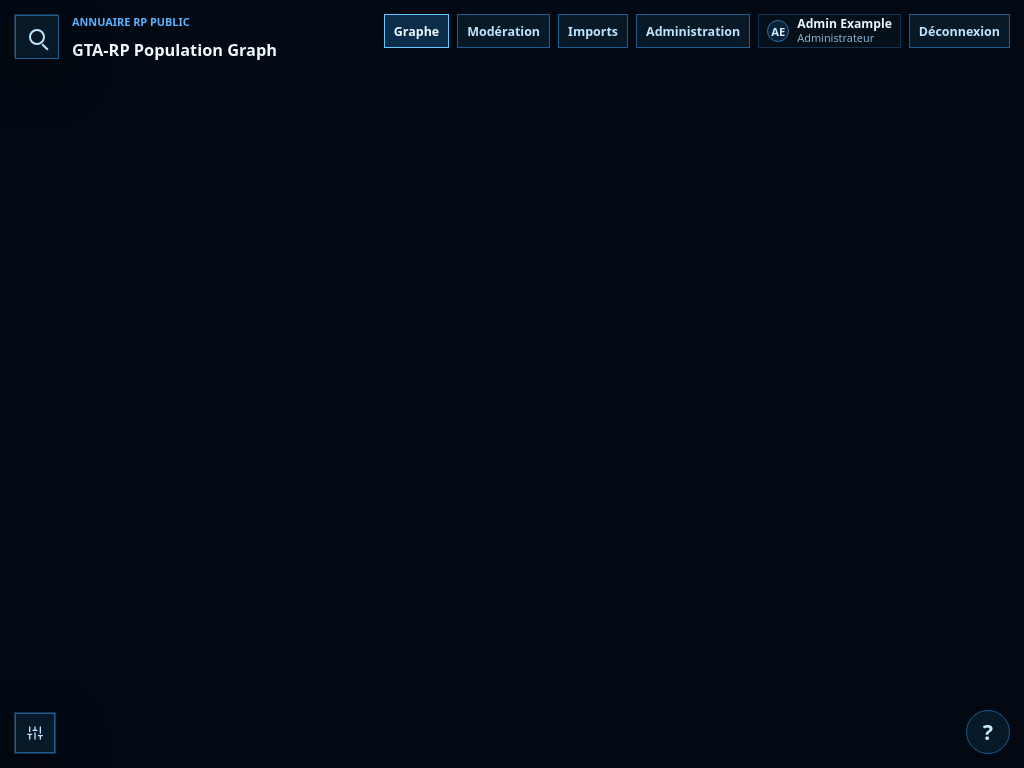
App › opens the administration view for administrators
Click the button "Administration" at (693, 31), box [636, 14, 750, 48]
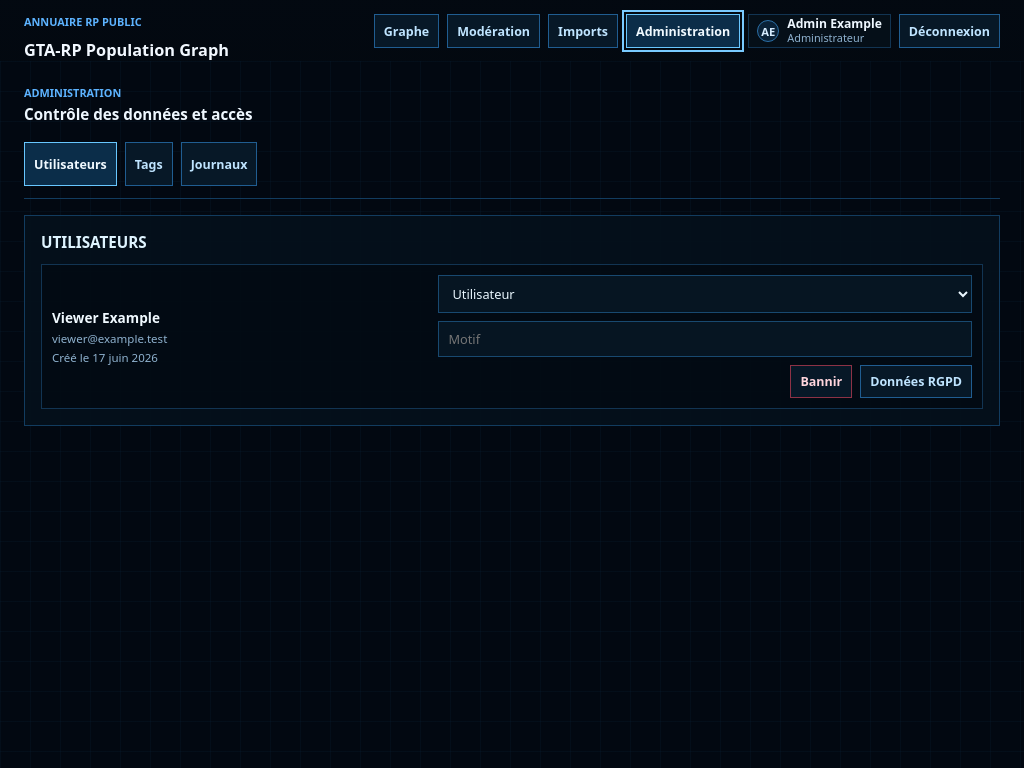
expect the text "Famille Morel" is not shown: met
expect the heading "Contrôle des données et accès" is shown: met, box [24, 104, 252, 124]
expect the text "Viewer Example" is shown: met, box [52, 308, 160, 327]
Click the tab "Tags" at (149, 164), box [125, 142, 173, 186]
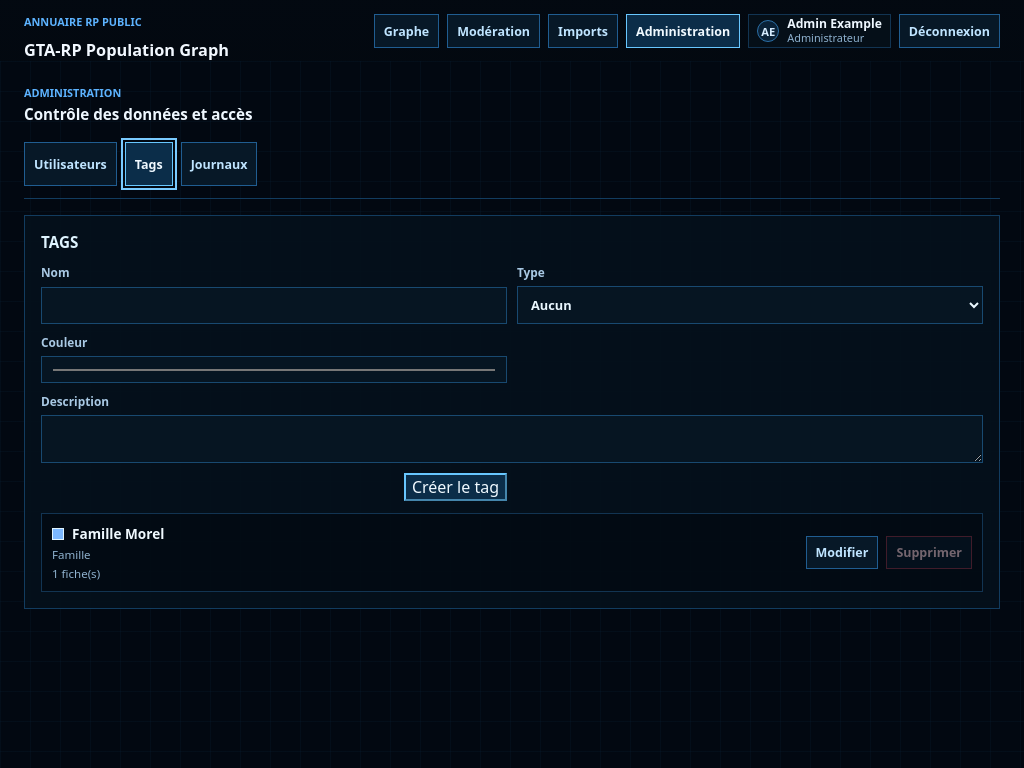
expect the text "Famille Morel" is shown: met, box [52, 524, 164, 543]
expect the text "Viewer Example" is gone: met
Click the tab "Journaux" at (219, 164), box [181, 142, 258, 186]
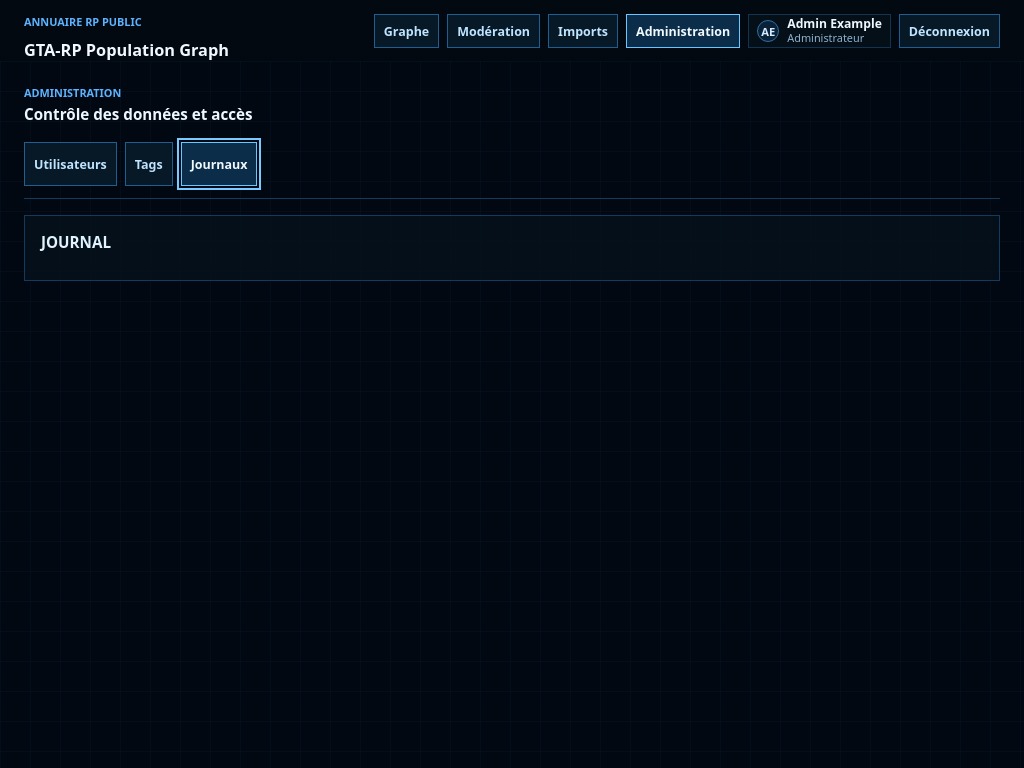
expect the text "Famille Morel" is gone: met
